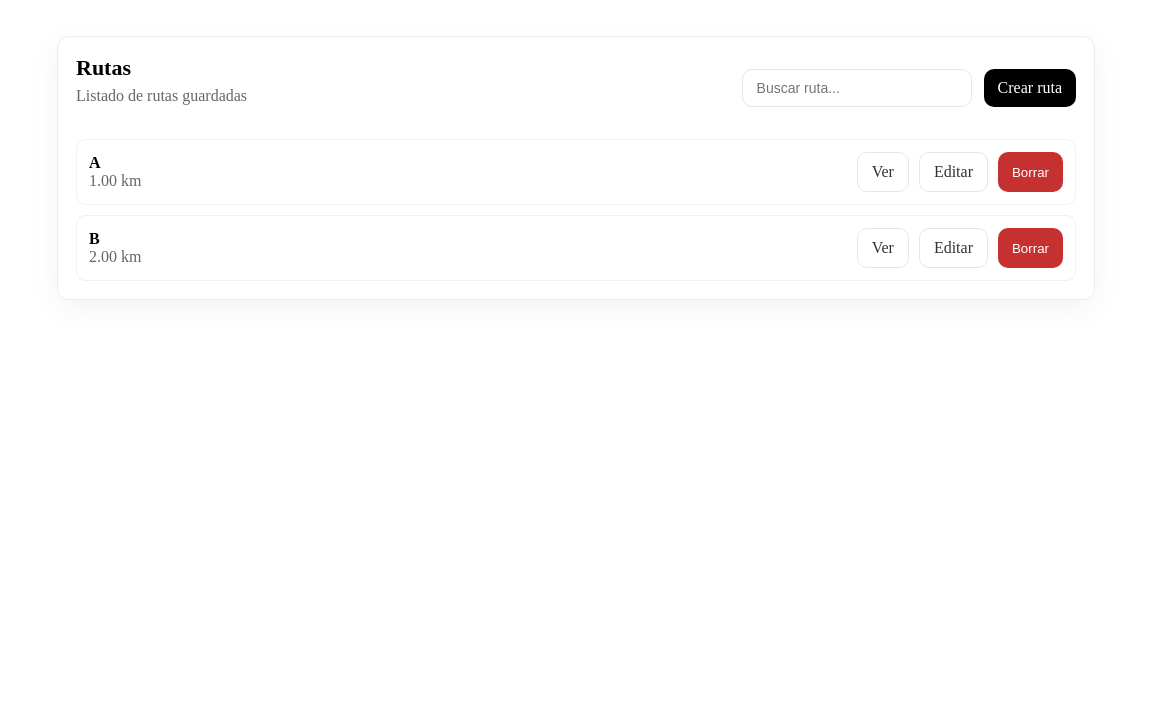
Test case: Borrar rutas (modal) — lista y detalle › Lista: hard delete elimina la ruta y muestra toast
The image size is (1152, 720).
# Borrar la primera
Click the button with class "danger" in the row of "1.00 km" at [1030, 172], box [998,152,1063,192]
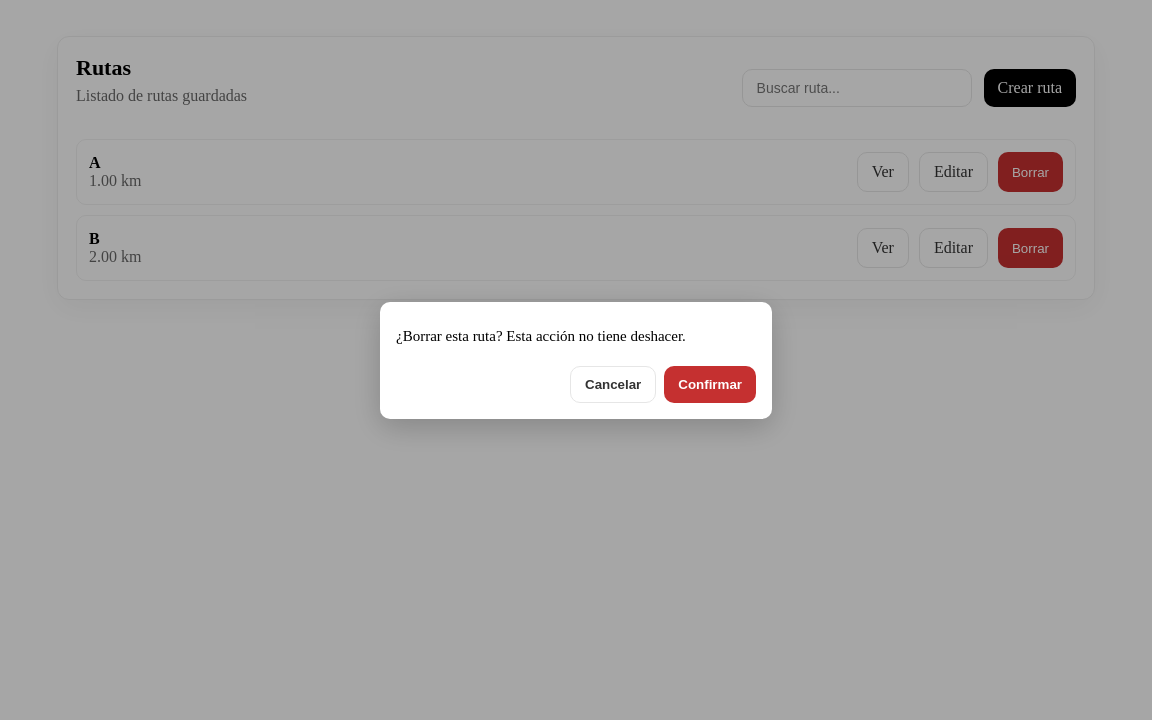
# Confirmar en modal
Click the button with class "danger" showing "Confirmar" at [710, 384], box [664,366,756,402]
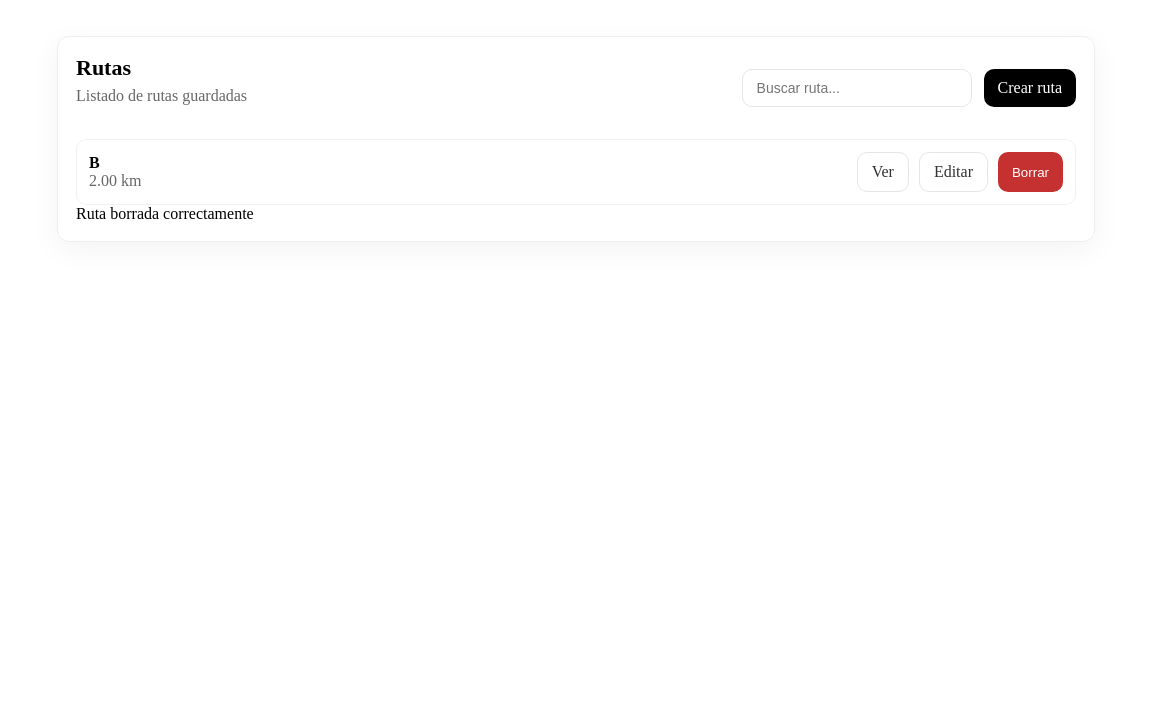
Expected: the number of list items with class "route-row" is 1, [76,139,1076,205]
Expected: the text "Ruta borrada correctamente" is shown, [76,205,254,222]
